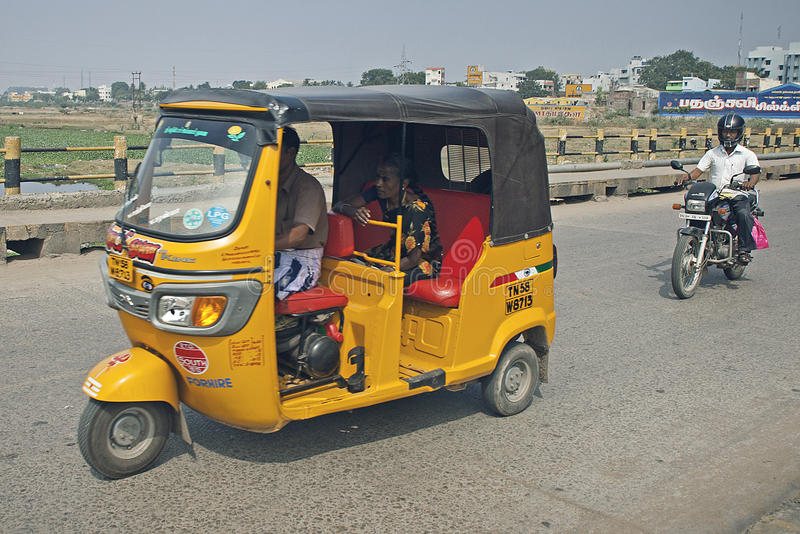auto: (73, 70, 576, 491)
bike: (657, 158, 786, 304)
helmet: (713, 116, 750, 150)
person: (700, 114, 764, 264)
